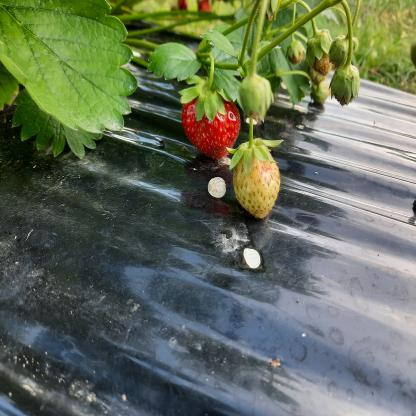ripe: (184, 86, 240, 153)
unripe: (232, 148, 281, 218)
